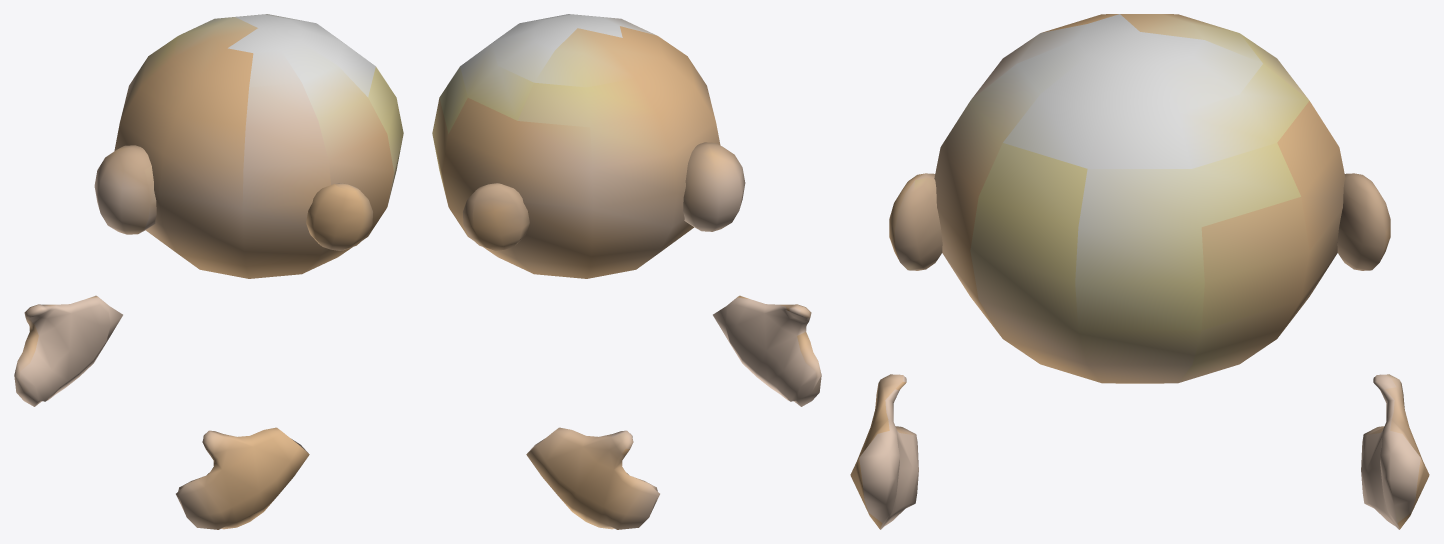
The model's file is Justin_Skin.fbx.
The picture shows the model from 3 angles, left to right: view 1: azimuth 30°, elevation 25°; view 2: azimuth 150°, elevation 25°; view 3: azimuth 270°, elevation 25°; orthographic projection. The views are drawn at different scales.
Visible parts, largest first — view 1: skin_01; view 2: skin_01; view 3: skin_01.
Boxes of the visible parts, x1=… form: skin_01: x1=14, y1=14, x2=403, y2=529; skin_01: x1=432, y1=14, x2=821, y2=529; skin_01: x1=850, y1=14, x2=1429, y2=529.
Size of the model in its own units: 78.86 by 108 by 98.35.
